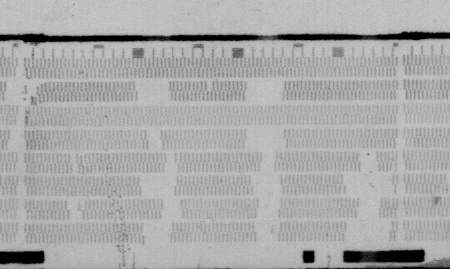Broken hole: (249, 174, 283, 243), (341, 176, 395, 198), (243, 127, 290, 150), (344, 221, 393, 243), (244, 79, 286, 102), (132, 79, 172, 102), (137, 175, 178, 197), (140, 221, 175, 245), (4, 82, 36, 107), (143, 129, 168, 151), (356, 199, 381, 221), (358, 150, 380, 174), (160, 200, 185, 220), (64, 200, 85, 220), (257, 152, 276, 173), (162, 151, 179, 173), (68, 154, 82, 176), (7, 129, 20, 152), (205, 81, 215, 93)
Oblique printing: (33, 81, 46, 108), (137, 234, 150, 248), (76, 153, 86, 165)
